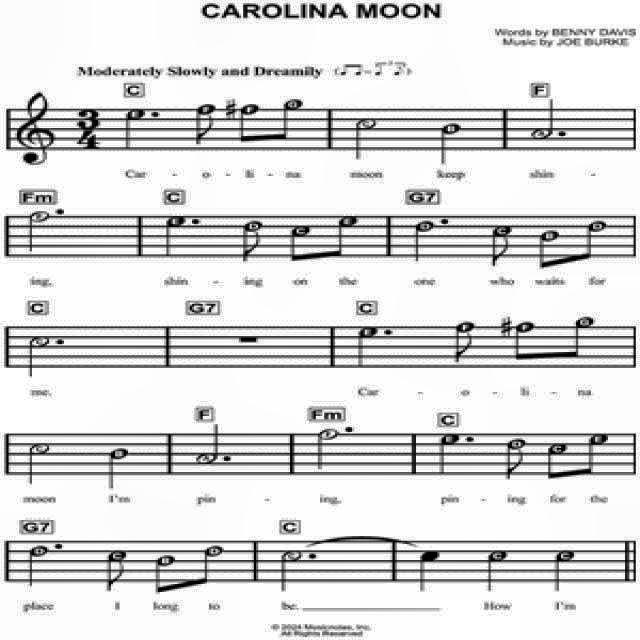Eighth-note: (180, 99, 220, 149), (579, 428, 613, 477), (446, 314, 474, 366), (499, 432, 526, 482), (277, 222, 307, 266), (578, 218, 606, 262), (102, 546, 128, 592), (538, 440, 566, 482), (485, 228, 511, 272), (234, 220, 262, 260), (197, 546, 223, 588), (332, 214, 352, 266), (278, 99, 302, 138), (568, 317, 592, 355), (514, 314, 534, 358), (532, 230, 552, 270), (240, 103, 260, 141), (157, 550, 170, 596)
Full-rest: (235, 334, 277, 354)
Half-note: (514, 98, 556, 150), (348, 114, 384, 170), (186, 428, 224, 472), (18, 430, 46, 486), (308, 427, 340, 471), (270, 544, 298, 592), (17, 334, 43, 374), (26, 211, 46, 247)
Quarter-note: (426, 120, 459, 168), (542, 542, 572, 594), (412, 547, 443, 593), (102, 446, 130, 492), (480, 551, 508, 597), (427, 436, 458, 476), (354, 322, 378, 368), (122, 108, 146, 152), (411, 218, 431, 262), (23, 544, 45, 584), (161, 210, 179, 254)
Treble-clef: (5, 92, 57, 176)
